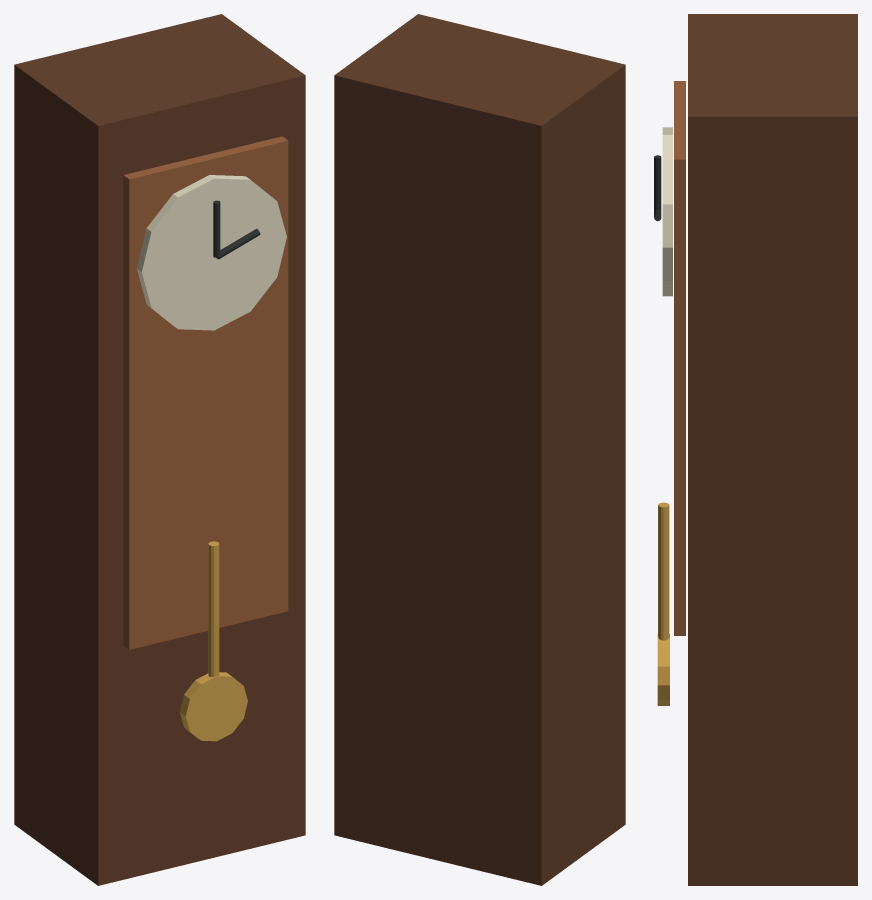
File: grandfather_clock.fbx
The picture shows the model from 3 angles, left to right: view 1: azimuth 30°, elevation 25°; view 2: azimuth 150°, elevation 25°; view 3: azimuth 270°, elevation 25°; orthographic projection.
Visible parts, largest first — view 1: grandfather_clock.002; view 2: grandfather_clock.002; view 3: grandfather_clock.002.
Boxes of the visible parts, x1,y1,x2,y2 form: grandfather_clock.002: (14,14,305,885); grandfather_clock.002: (334,14,625,885); grandfather_clock.002: (654,14,857,885).
Bounding box in the file's own units: 60 × 210 × 50.4.
